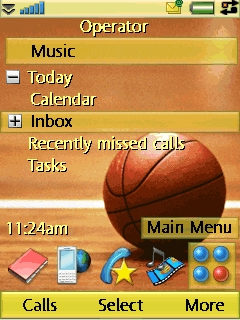basketball: (102, 131, 226, 256)
